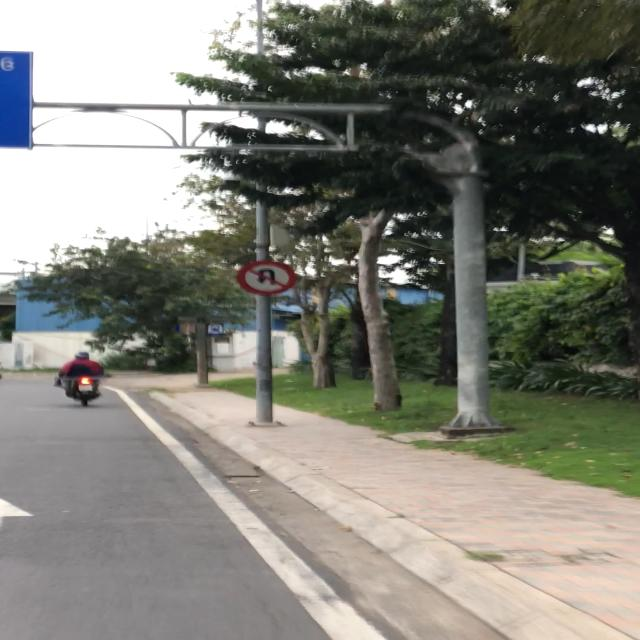Bien bao cam quay dau xe: (235, 257, 302, 295)
